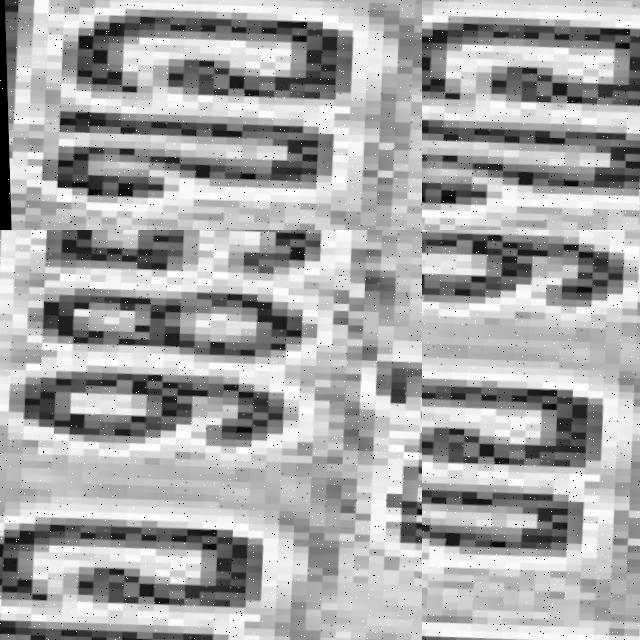license-plate: (422, 230, 640, 640), (0, 0, 422, 152), (422, 0, 640, 230), (0, 230, 422, 305)
